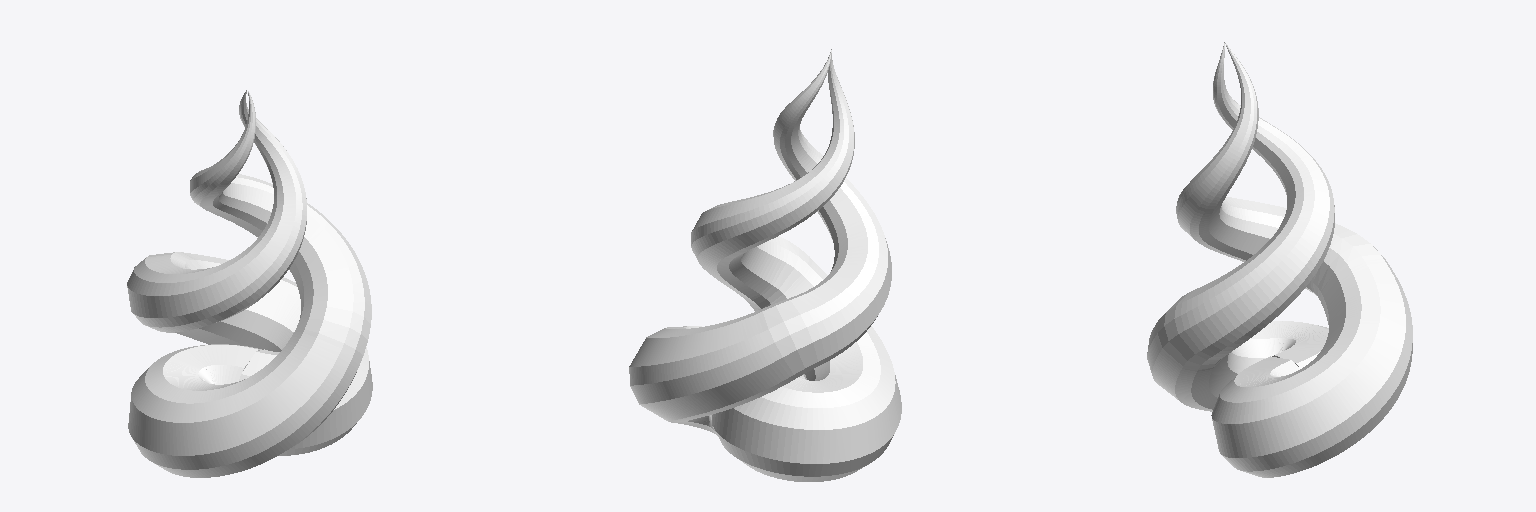
Rendered from CAT_EYEBALL_interior.obj.
3 renders of one model, left to right at view 1: azimuth 30°, elevation 25°; view 2: azimuth 150°, elevation 25°; view 3: azimuth 270°, elevation 25°, orthographic.
Parts seen in each view (by area): view 1: Sweep; view 2: Sweep; view 3: Sweep.
Boxes of the visible parts, x1=… form: Sweep: x1=127, y1=90, x2=372, y2=477; Sweep: x1=629, y1=49, x2=901, y2=481; Sweep: x1=1147, y1=42, x2=1412, y2=477.
Size of the model in its own units: 36.69 by 59.54 by 36.51.